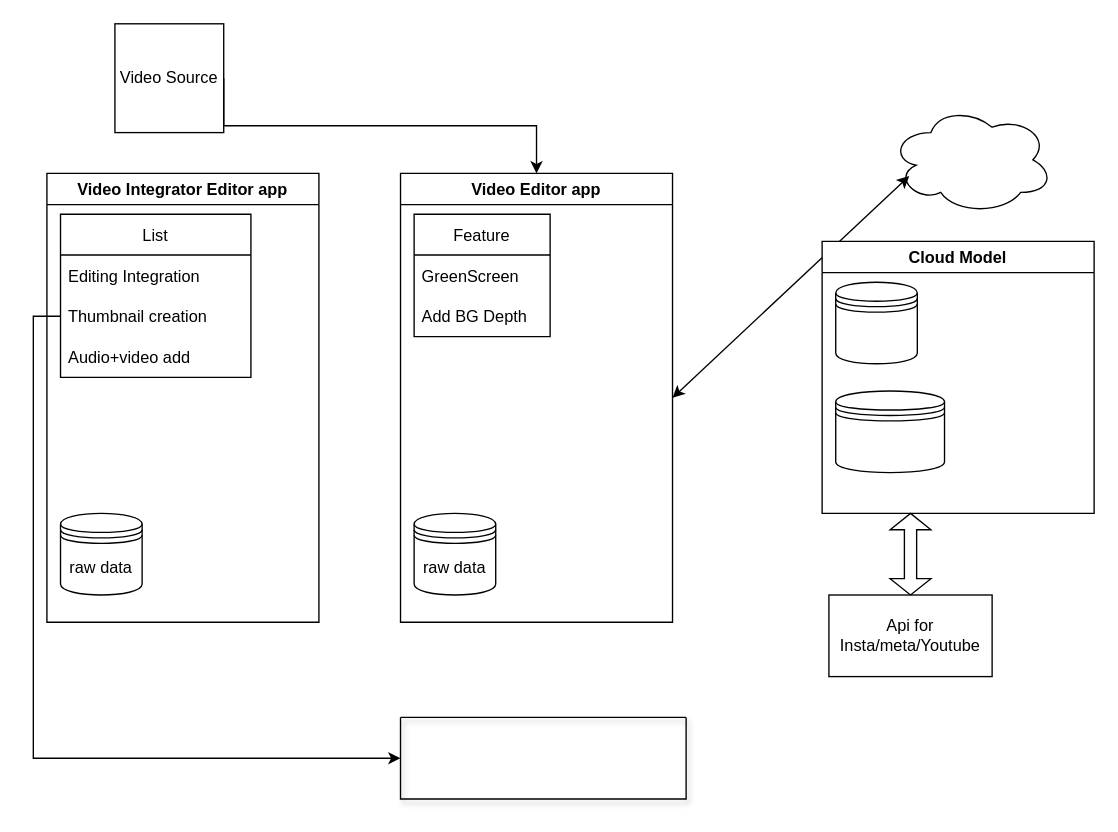
The diagram is 1118 pixels wide and 832 high, and some of its shapes have lost their labels. The shapes that lost their labels are listed below. From the top down, each one's centre as x and y in pixels, then its label:
(971,159): cloud training
(875,322): model file
(889,431): augmemted
(544,760): https://www.remove.bg/tools-api
